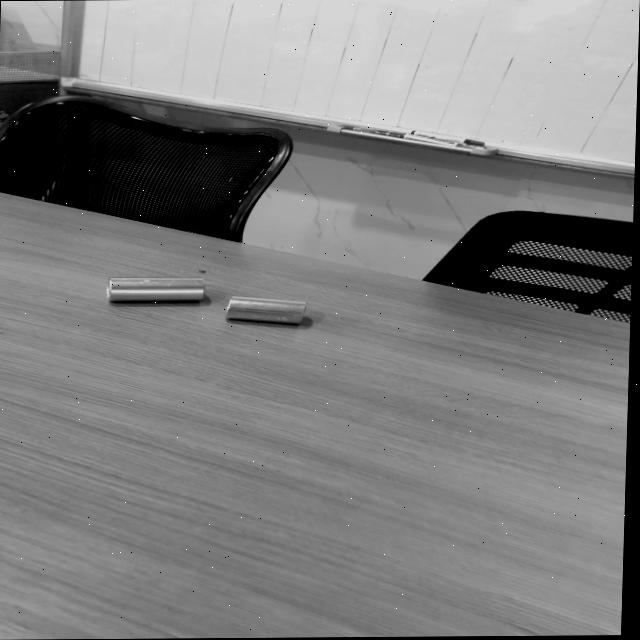Co_Lon: (105, 276, 204, 301)
Co_Nho: (225, 294, 305, 326)
